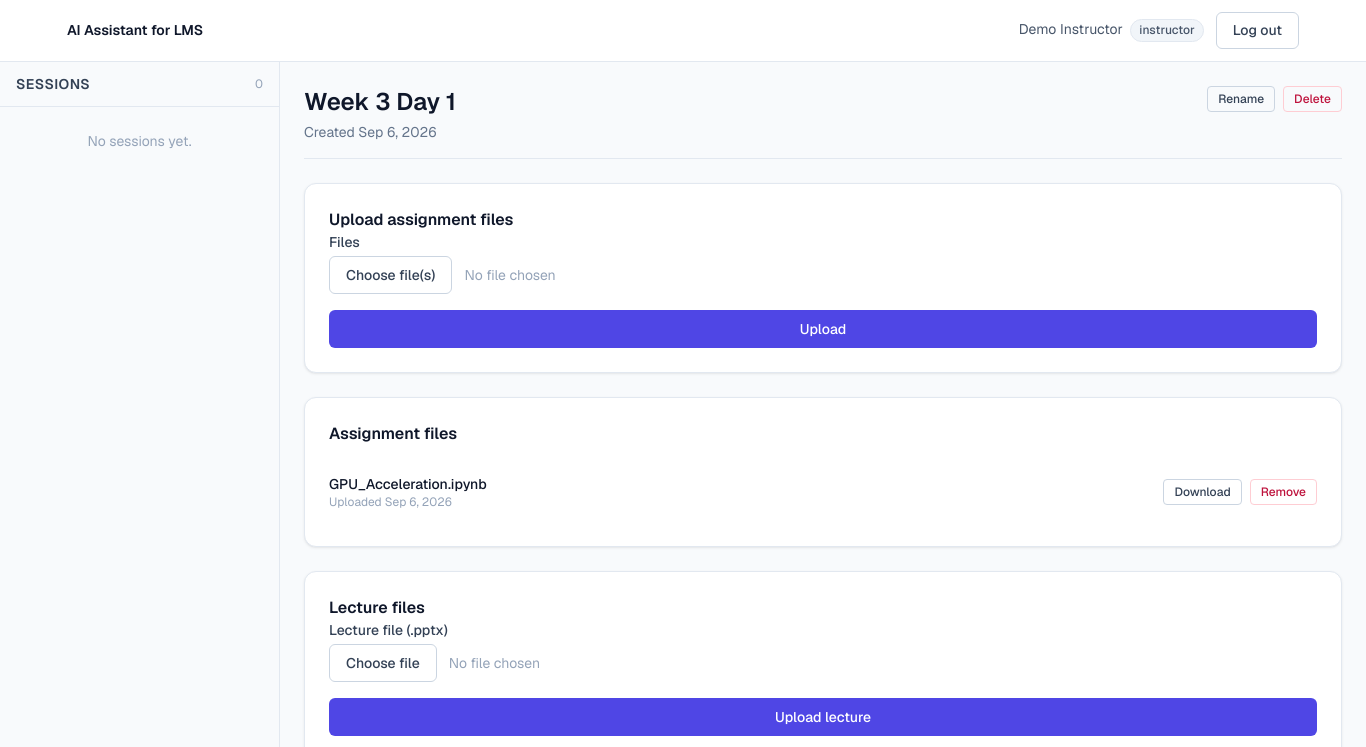
Test: <SessionDetail /> — download and remove › shows an error if the download fails
Expected: the heading "Week 3 Day 1" is shown, top-left (304, 86), bottom-right (456, 118)
What coordinates should you click on to do the following:
click the button "Download"
I would click on:
 (1203, 492)
Its box is top-left (1163, 479), bottom-right (1242, 505).
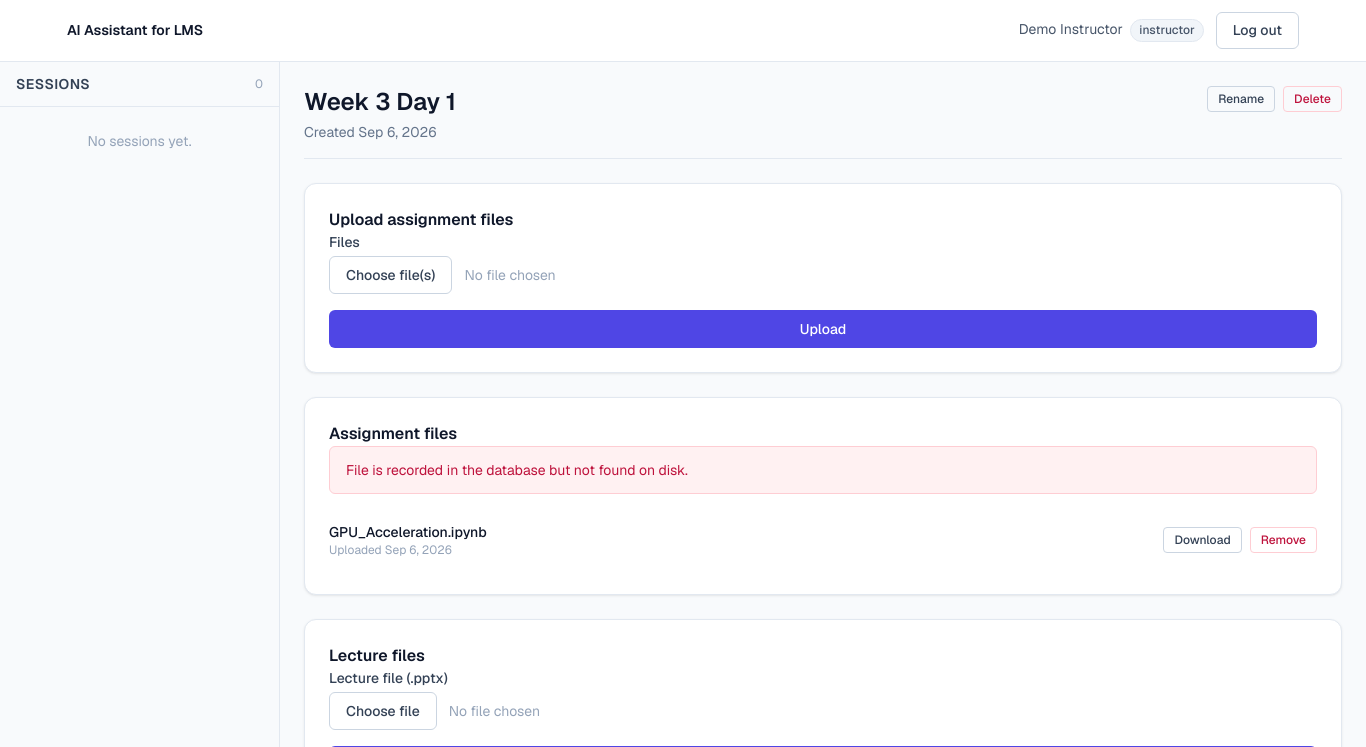
Expected: the message shows "not found on disk", top-left (346, 461), bottom-right (688, 479)
